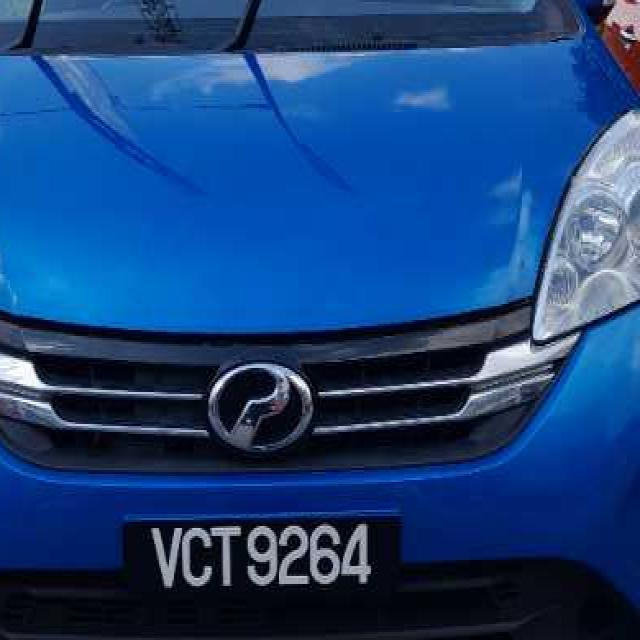car-plate: (108, 503, 405, 627)
